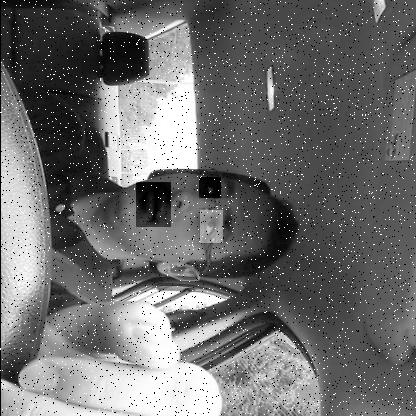seatbelt: (13, 139, 307, 319)
